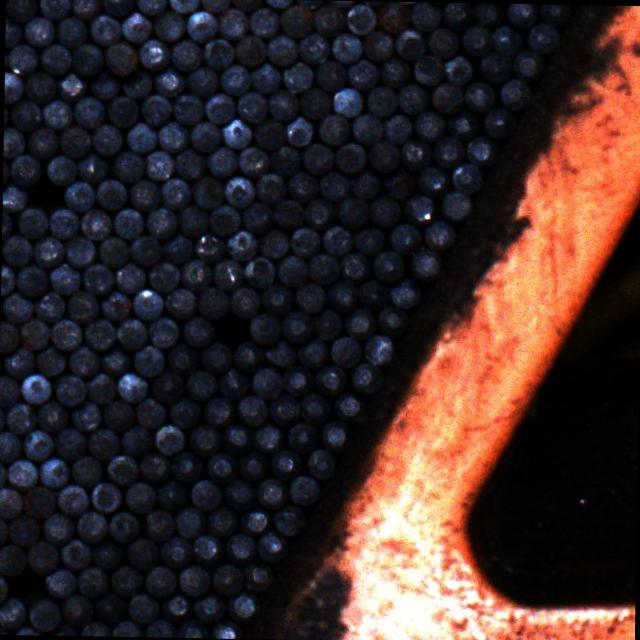tool: (420, 216, 458, 250), (108, 148, 144, 183), (225, 589, 260, 624), (130, 343, 166, 377), (15, 262, 49, 298), (371, 248, 407, 282), (408, 248, 444, 282), (27, 598, 62, 632), (236, 393, 270, 428), (300, 142, 334, 177), (26, 538, 59, 574), (75, 566, 109, 600), (74, 509, 108, 543), (22, 484, 56, 518), (158, 534, 192, 568), (141, 508, 175, 542), (100, 398, 134, 432), (332, 388, 366, 422), (64, 289, 98, 323), (388, 274, 422, 308), (211, 256, 245, 290), (62, 178, 96, 212), (70, 42, 104, 76), (264, 34, 298, 68), (312, 2, 346, 36), (177, 562, 210, 597), (188, 478, 223, 511), (167, 395, 202, 428), (49, 316, 82, 351), (352, 222, 387, 255), (126, 178, 161, 211), (366, 140, 401, 173), (349, 362, 385, 394), (164, 342, 200, 374), (248, 310, 280, 346), (88, 122, 124, 154), (60, 593, 94, 626), (143, 564, 176, 598), (210, 562, 243, 596), (256, 530, 290, 563), (154, 478, 188, 511), (105, 452, 138, 486), (134, 395, 168, 428), (0, 346, 33, 380), (82, 318, 116, 351), (227, 284, 260, 318), (261, 282, 294, 316), (1, 233, 34, 267), (176, 204, 210, 237), (190, 174, 223, 208), (22, 14, 56, 47), (446, 108, 480, 141), (410, 52, 443, 86), (125, 536, 160, 568), (55, 484, 90, 516), (150, 423, 185, 455), (313, 363, 348, 395), (66, 344, 101, 376), (294, 336, 329, 368), (438, 190, 473, 222), (9, 97, 41, 132), (464, 134, 499, 166), (498, 78, 533, 110), (460, 23, 492, 58), (375, 0, 410, 32), (53, 426, 86, 459), (223, 477, 256, 510), (319, 419, 352, 452), (298, 391, 331, 424), (217, 366, 250, 399), (49, 261, 82, 294), (15, 205, 48, 238), (208, 203, 241, 236), (417, 164, 450, 197), (152, 9, 185, 42), (483, 105, 516, 138), (6, 514, 40, 546), (40, 512, 74, 544), (4, 458, 38, 490), (192, 590, 226, 622), (242, 559, 274, 593), (204, 505, 238, 537), (238, 504, 272, 536), (271, 504, 305, 536), (124, 480, 156, 514), (137, 451, 171, 483), (268, 448, 302, 480), (150, 370, 184, 402), (182, 314, 214, 348), (130, 288, 164, 320), (164, 286, 198, 318), (294, 281, 326, 315), (326, 279, 360, 311), (80, 262, 114, 294), (46, 208, 80, 240), (111, 206, 145, 238), (336, 196, 370, 228), (8, 154, 42, 186), (25, 126, 59, 158), (188, 120, 222, 152), (72, 96, 106, 128), (104, 42, 138, 74), (170, 36, 202, 70), (432, 136, 466, 168), (412, 109, 446, 141), (298, 86, 330, 120), (331, 86, 365, 118), (378, 54, 410, 88), (392, 28, 426, 60), (278, 4, 312, 36), (362, 333, 397, 364), (40, 41, 71, 76), (270, 390, 300, 426), (192, 231, 228, 261), (424, 27, 460, 57), (44, 565, 76, 598), (38, 455, 70, 488), (22, 428, 54, 461), (36, 399, 69, 431), (108, 509, 140, 542), (87, 427, 120, 459), (251, 421, 284, 453), (202, 394, 234, 427), (184, 368, 217, 400), (200, 340, 233, 372), (17, 317, 49, 350), (116, 317, 148, 350), (280, 310, 312, 343), (343, 308, 376, 340), (0, 291, 33, 323), (147, 260, 180, 292), (243, 256, 276, 288), (276, 255, 308, 288), (64, 235, 96, 268), (144, 206, 177, 238), (241, 200, 273, 233), (368, 195, 401, 227), (318, 168, 351, 200), (44, 154, 76, 187), (105, 94, 138, 126), (139, 92, 171, 125), (171, 91, 203, 124), (203, 92, 236, 124), (120, 66, 153, 98), (136, 38, 169, 70), (235, 146, 268, 178), (400, 137, 432, 170), (252, 115, 284, 148), (317, 112, 349, 145), (350, 113, 383, 145), (235, 90, 268, 122), (268, 88, 300, 121), (397, 82, 429, 115), (431, 82, 464, 114), (249, 62, 282, 94), (282, 59, 314, 92), (513, 48, 545, 81), (232, 34, 265, 66), (297, 31, 329, 64), (330, 31, 362, 64), (173, 505, 204, 539), (114, 371, 148, 402), (54, 15, 88, 46), (334, 142, 368, 173), (314, 59, 348, 90), (362, 28, 393, 62), (491, 23, 522, 57), (94, 592, 126, 624), (109, 564, 141, 596), (191, 532, 223, 564), (224, 532, 256, 564), (70, 454, 102, 486), (236, 449, 268, 481), (304, 447, 336, 479), (220, 422, 252, 454), (69, 399, 101, 431), (54, 374, 86, 406), (250, 365, 282, 397), (264, 338, 296, 370), (32, 291, 64, 323), (114, 262, 146, 294), (32, 236, 64, 268), (256, 226, 288, 258), (288, 225, 320, 257), (388, 222, 420, 254), (79, 208, 111, 240), (272, 198, 304, 230), (95, 178, 127, 210), (124, 122, 156, 154), (156, 120, 188, 152), (24, 71, 56, 103), (186, 64, 218, 96), (120, 10, 152, 42), (204, 146, 236, 178), (219, 64, 251, 96), (442, 53, 474, 85), (217, 8, 249, 40), (187, 424, 220, 455), (32, 347, 65, 378), (311, 306, 342, 339), (98, 288, 129, 321), (339, 249, 370, 282), (321, 224, 354, 255), (223, 175, 254, 208), (172, 147, 205, 178), (56, 70, 89, 101), (153, 65, 186, 96), (185, 10, 218, 41), (366, 84, 397, 117), (479, 51, 512, 82), (526, 22, 559, 53), (158, 592, 192, 622), (90, 540, 124, 570), (198, 284, 228, 318), (96, 236, 130, 266), (402, 193, 436, 223), (450, 162, 484, 192), (382, 110, 412, 144), (5, 402, 36, 434), (90, 482, 122, 513), (206, 450, 237, 482), (120, 425, 152, 456), (286, 421, 318, 452), (232, 341, 264, 372), (330, 336, 361, 368), (148, 316, 179, 348), (308, 253, 339, 285), (130, 235, 162, 266), (162, 231, 194, 262), (351, 168, 383, 199), (58, 125, 90, 156), (41, 98, 72, 130), (87, 66, 118, 98), (464, 79, 495, 111), (347, 58, 378, 90), (409, 1, 441, 32), (286, 474, 319, 504), (376, 306, 409, 336), (383, 168, 416, 198), (203, 37, 233, 70), (268, 145, 301, 175), (60, 538, 90, 570), (128, 592, 158, 624), (20, 374, 52, 404), (180, 260, 212, 290), (304, 197, 334, 229), (254, 172, 286, 202), (76, 152, 108, 182), (143, 148, 173, 180), (6, 44, 38, 74), (222, 117, 252, 149), (283, 116, 315, 146), (248, 6, 278, 38), (346, 2, 376, 34), (170, 452, 203, 481), (0, 542, 27, 577), (256, 477, 286, 508), (86, 372, 116, 403), (227, 229, 258, 259), (288, 170, 319, 200), (102, 343, 130, 376), (283, 364, 313, 394), (90, 14, 120, 44), (161, 177, 189, 209), (442, 2, 474, 30), (0, 593, 26, 627), (359, 278, 388, 308), (1, 181, 28, 212), (2, 125, 26, 159), (506, 3, 538, 28), (208, 617, 244, 639), (473, 2, 503, 28), (538, 3, 572, 24), (0, 487, 23, 518), (144, 617, 177, 638), (0, 429, 21, 461), (5, 0, 36, 21), (110, 618, 144, 637), (177, 618, 208, 638), (0, 375, 20, 406), (38, 0, 69, 19), (69, 0, 102, 17), (0, 320, 18, 351), (4, 71, 22, 102), (0, 263, 16, 296), (79, 620, 110, 636), (5, 17, 22, 46), (102, 0, 133, 15), (134, 0, 167, 14), (168, 0, 199, 13), (199, 0, 231, 11), (0, 572, 9, 603)
void: (204, 302, 260, 355), (27, 176, 65, 211), (7, 568, 48, 600)
